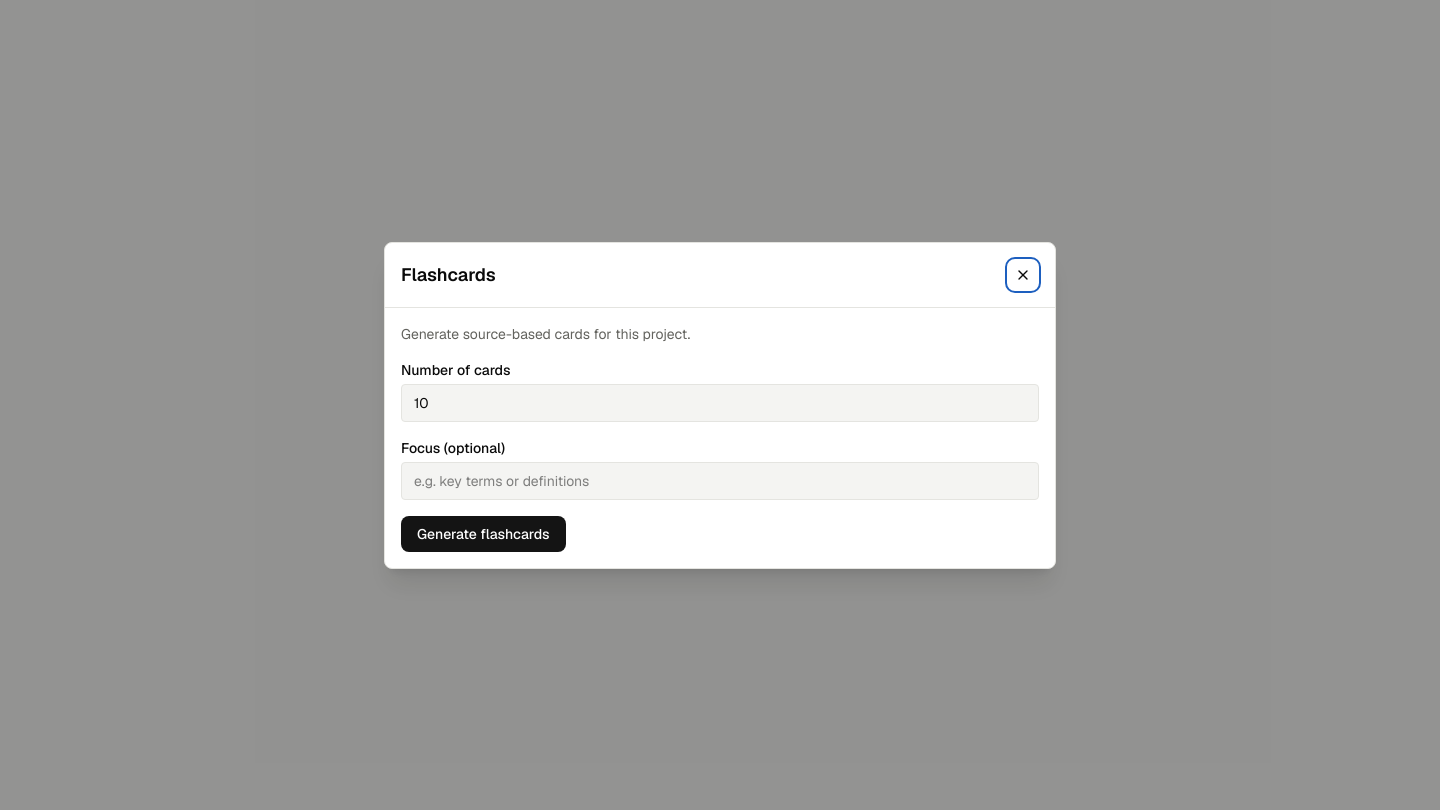
Scenario: StudyToolsDialog › shows card front and flips to back
This screenshot has width=1440, height=810.
Click the button "Generate flashcards" at (483, 534), box [401,516,566,552]
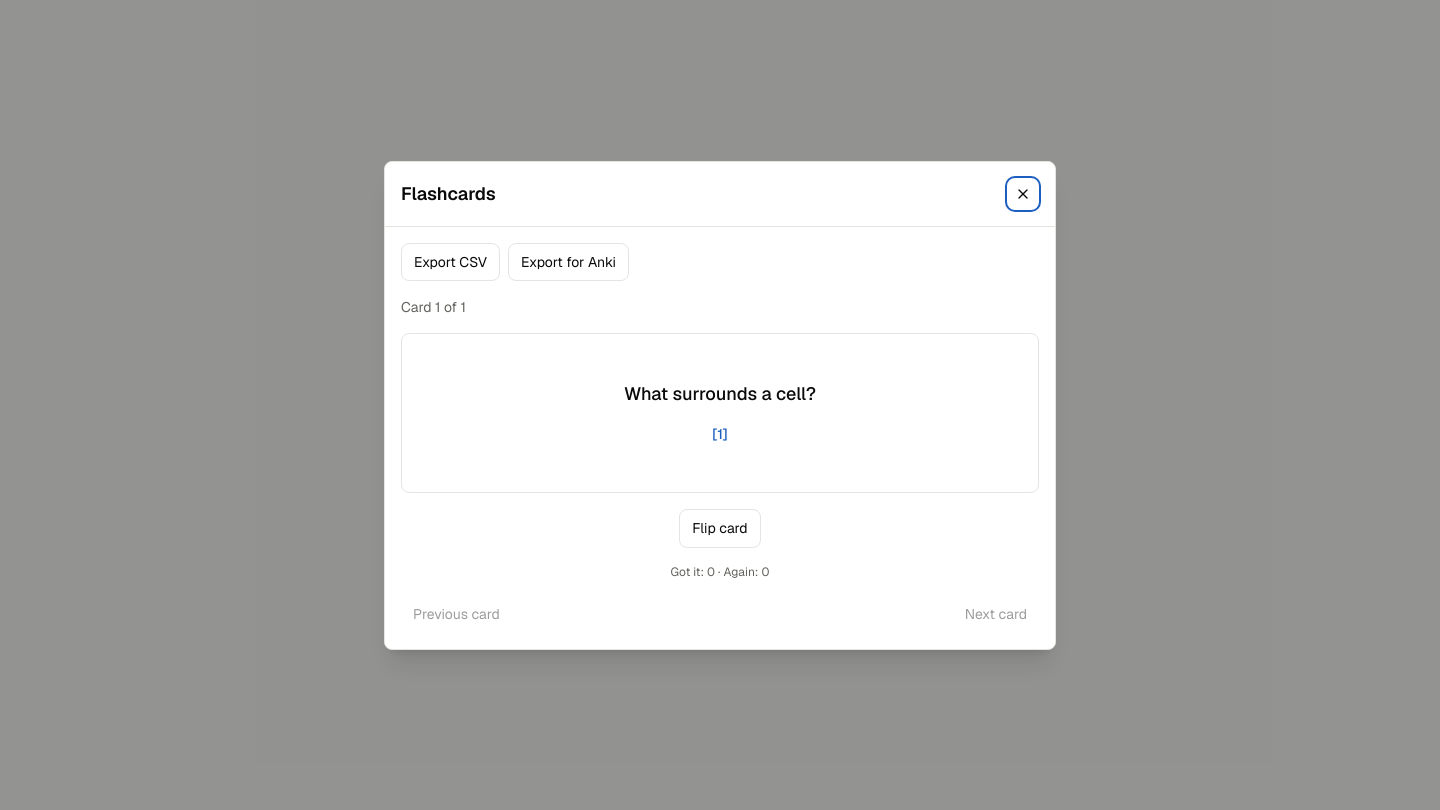
expect the text "What surrounds a cell?" is shown: met, box [624,382,816,405]
Click the button "Flip card" at (720, 528), box [679,508,761,548]
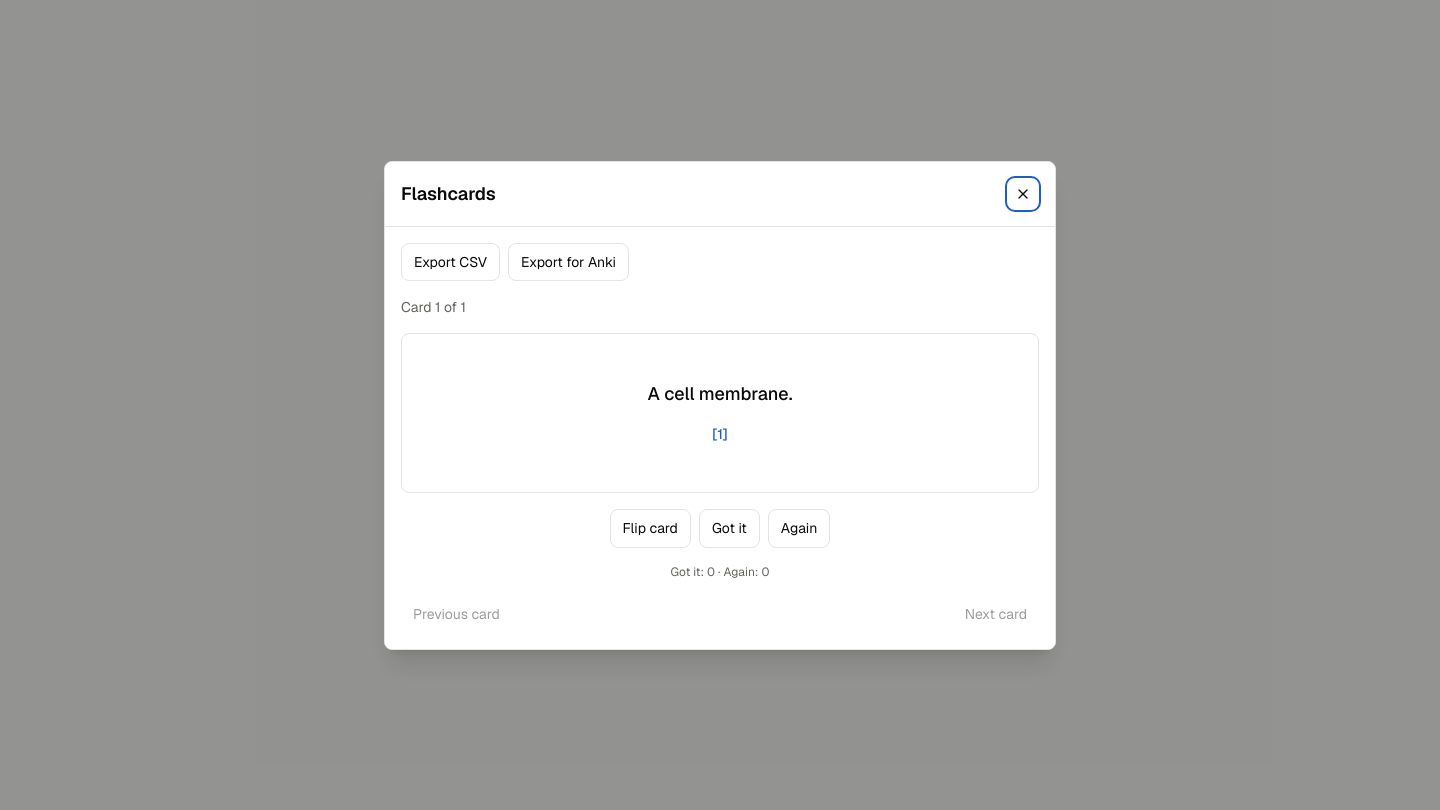
expect the text "A cell membrane." is shown: met, box [648,382,792,405]
Click the button named "Preview source 1" at (720, 434), box [710,424,730,445]
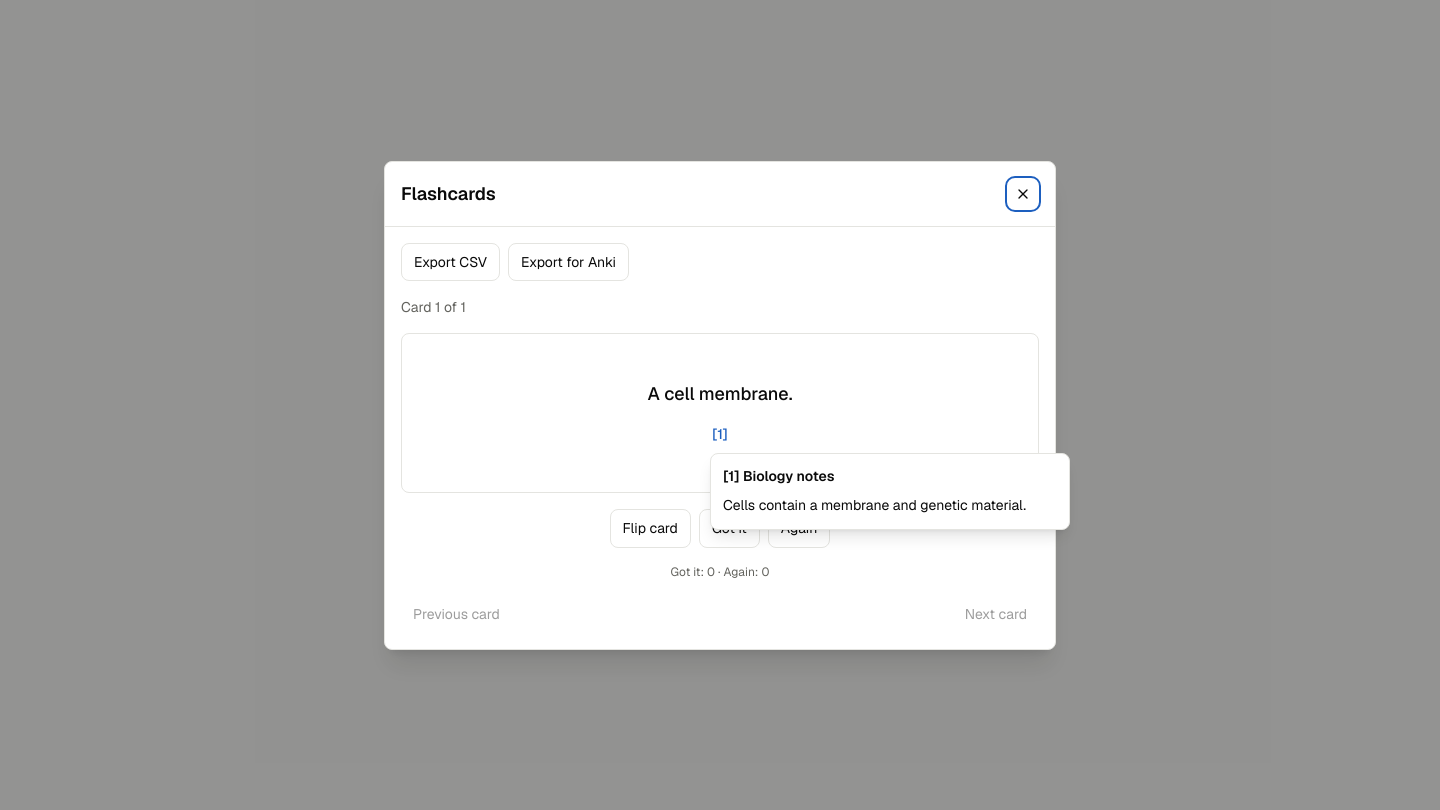
expect the text "Cells contain a membrane and genetic material." is shown: met, box [723,494,1057,517]
